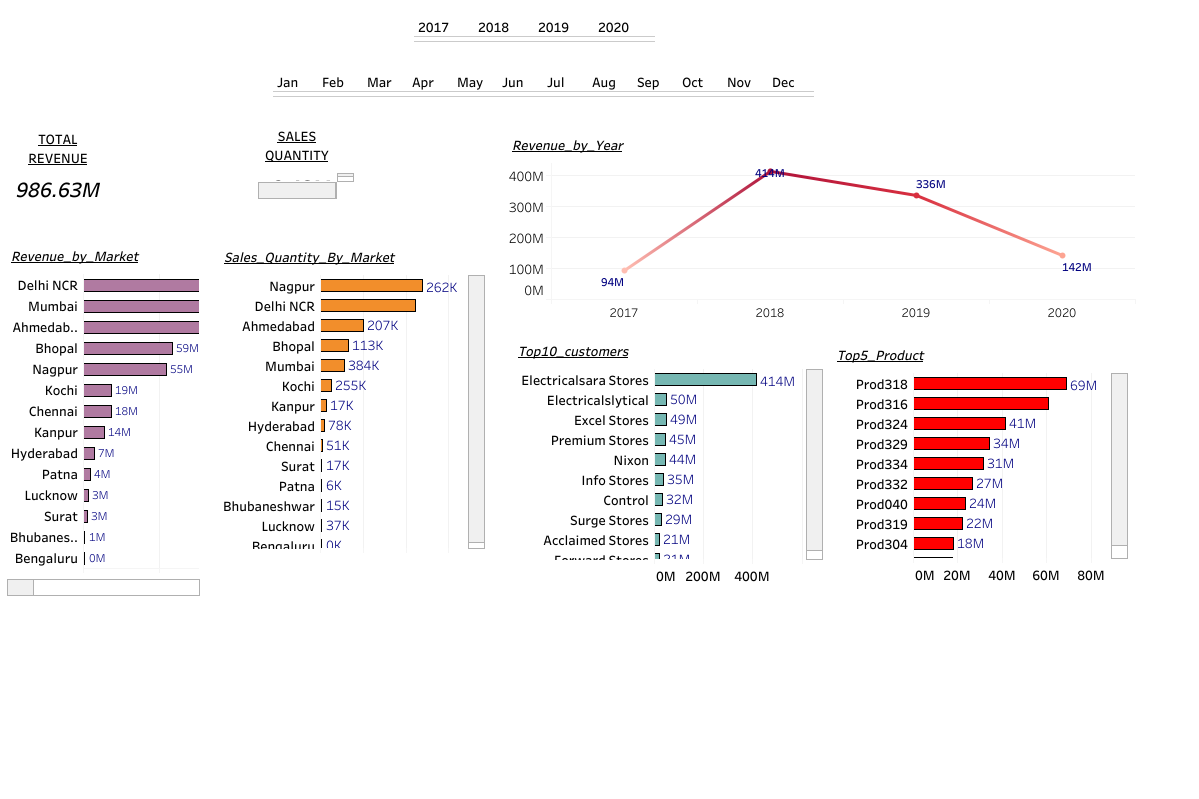

What the dashboard file says about the page in this screenshot:
{"tool":"tableau","page":{"name":"Dashboard 1","canvas":[1200,800],"ordinal":0},"visuals":[{"type":"worksheet","title":"year","mark":"Automatic","cols":["cy_date"],"box":[414,1,248,47]},{"type":"worksheet","title":"month","mark":"Automatic","cols":["cy_date"],"box":[273,56,544,41]},{"type":"worksheet","title":"sales_quantity","mark":"Automatic","box":[258,120,96,79]},{"type":"worksheet","title":"total_revenue","mark":"Automatic","box":[8,123,108,84]},{"type":"worksheet","title":"revenue_by-year","mark":"Line","rows":["Calculation_92323851266961409"],"cols":["cy_date"],"box":[508,129,627,192]},{"type":"worksheet","title":"revenue_by_market","mark":"Automatic","rows":["markets_name"],"cols":["Calculation_92323851266961409"],"box":[7,240,192,366]},{"type":"worksheet","title":"sales_quantity_by_market","mark":"Automatic","rows":["markets_name"],"cols":["sales_qty"],"box":[220,241,265,364]},{"type":"worksheet","title":"top5_customer","mark":"Automatic","rows":["custmer_name"],"cols":["Calculation_92323851266961409"],"box":[514,335,309,254]},{"type":"worksheet","title":"top5_product","mark":"Automatic","rows":["product_code"],"cols":["Calculation_92323851266961409"],"box":[833,339,295,249]}]}

Visuals, with their boxes in screenshot pixels (x1, y1, x2, y2), scaled from the page's 1200x800 canvas onto the 1199x799 screenshot:
"year" worksheet: region(414, 1, 661, 48)
"month" worksheet: region(273, 56, 816, 97)
"sales_quantity" worksheet: region(258, 120, 354, 199)
"total_revenue" worksheet: region(8, 123, 116, 207)
"revenue_by-year" worksheet (Line marks): region(508, 129, 1134, 321)
"revenue_by_market" worksheet: region(7, 240, 199, 605)
"sales_quantity_by_market" worksheet: region(220, 241, 485, 604)
"top5_customer" worksheet: region(514, 335, 822, 588)
"top5_product" worksheet: region(832, 339, 1127, 587)
